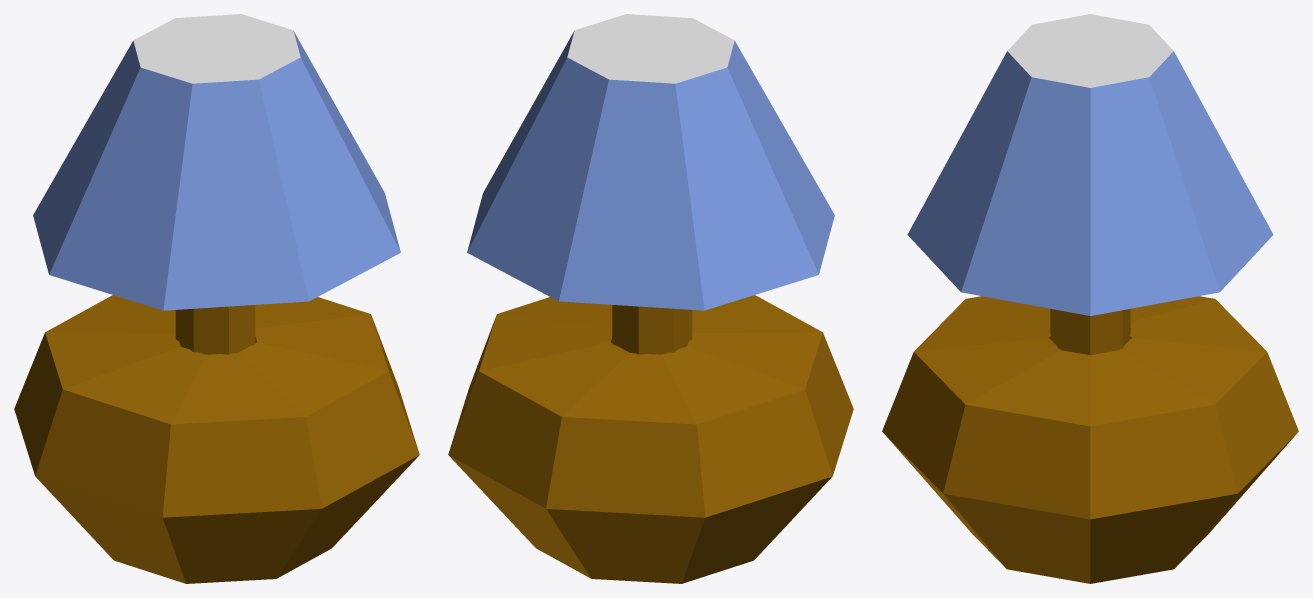
Rendered from Lamp_1.fbx.
The picture shows the model from 3 angles, left to right: view 1: azimuth 30°, elevation 25°; view 2: azimuth 150°, elevation 25°; view 3: azimuth 270°, elevation 25°; orthographic projection.
Parts seen in each view (by area): view 1: Sphere, Sphere.002, Cylinder; view 2: Sphere, Sphere.002, Cylinder; view 3: Sphere, Sphere.002, Cylinder.
Boxes of the visible parts, left/top/right/bottom form: Sphere: left=14, top=295, right=419, bottom=583; Sphere.002: left=33, top=14, right=400, bottom=310; Cylinder: left=175, top=305, right=255, bottom=354; Sphere: left=448, top=295, right=853, bottom=583; Sphere.002: left=467, top=14, right=834, bottom=310; Cylinder: left=612, top=305, right=692, bottom=354; Sphere: left=882, top=296, right=1298, bottom=583; Sphere.002: left=907, top=14, right=1273, bottom=315; Cylinder: left=1050, top=309, right=1130, bottom=355.
Size of the model in its own units: 0.194 by 0.248 by 0.194.
